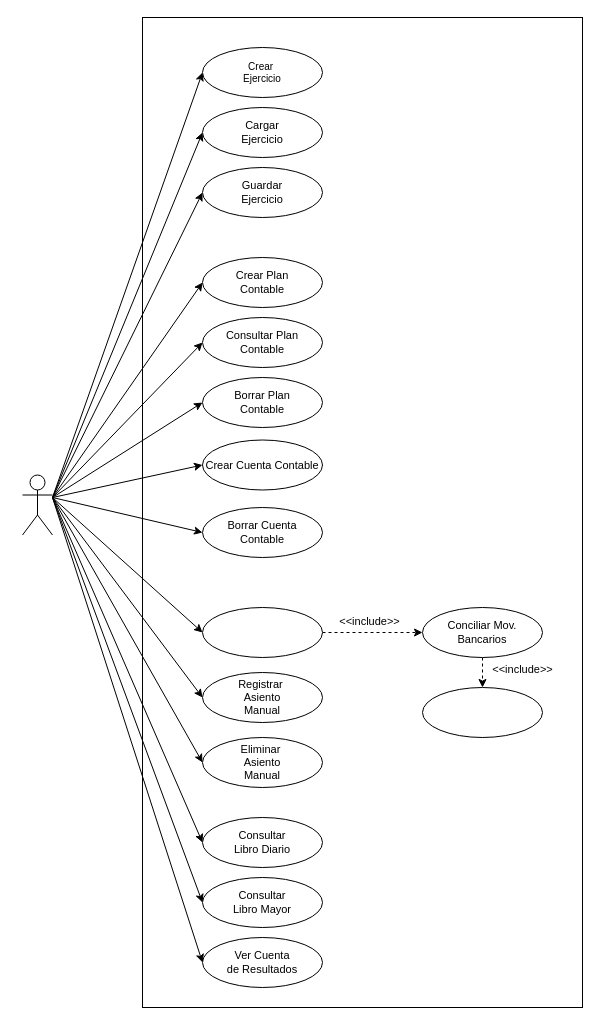
This 600x1025 diagram has some shape labels left out. The centre of each missing label's shape, as x and y in pixels:
Importar Mov. Bancarios: (x=262, y=632)
Registrar Asiento Autom.: (x=482, y=712)
Usuario: (x=37, y=504)
